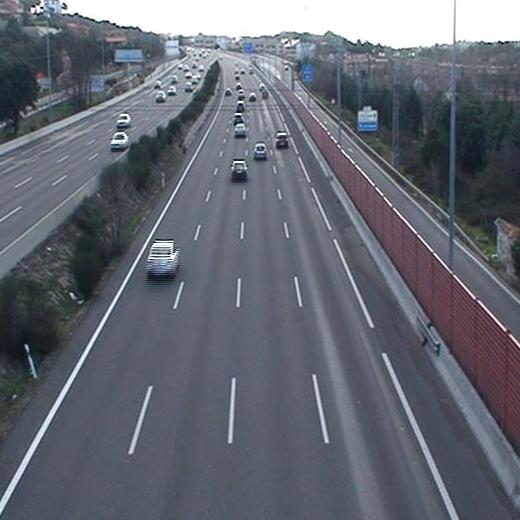car: (144, 236, 184, 282), (226, 158, 250, 185), (273, 131, 292, 150), (253, 142, 271, 161), (233, 121, 249, 139), (230, 110, 247, 125), (235, 98, 248, 115), (248, 92, 258, 101)
